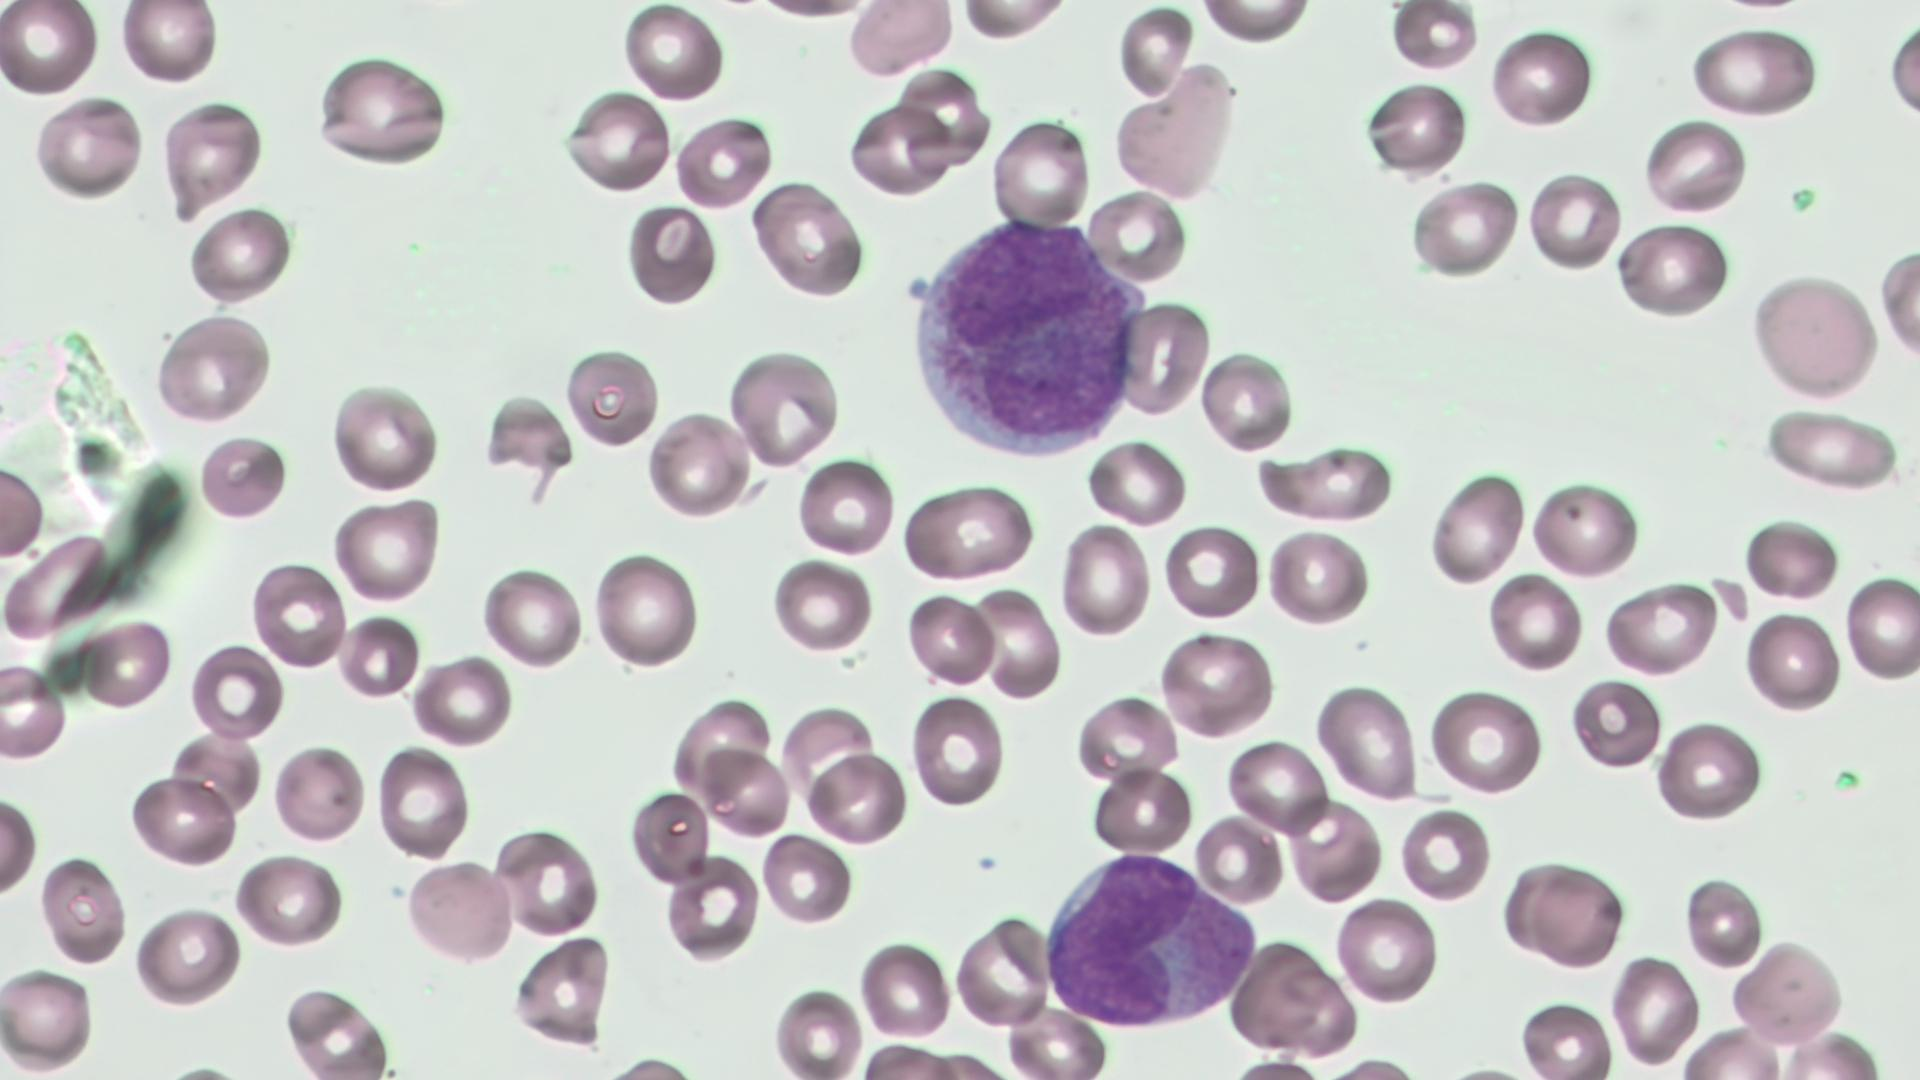Platelets: (902, 274, 931, 304)
RBC: (1749, 266, 1878, 406), (1111, 60, 1238, 201), (313, 51, 455, 169), (153, 308, 273, 427), (726, 344, 840, 469), (900, 479, 1035, 584), (751, 177, 866, 300), (1728, 934, 1848, 1048), (1156, 626, 1276, 740), (590, 547, 700, 671), (2, 525, 113, 646), (1756, 403, 1904, 493), (158, 96, 264, 221), (1426, 684, 1542, 798), (1226, 934, 1336, 1054), (1686, 22, 1821, 119), (1314, 679, 1419, 803), (330, 378, 440, 496), (332, 492, 443, 607), (560, 85, 674, 196), (493, 824, 602, 940), (1332, 891, 1440, 1008), (404, 856, 516, 967), (30, 96, 142, 206), (508, 932, 613, 1048), (1529, 476, 1642, 583), (1614, 219, 1731, 322), (987, 115, 1090, 232), (1653, 717, 1764, 825), (1486, 25, 1598, 132), (480, 560, 586, 671), (647, 407, 750, 521), (373, 742, 472, 860), (1407, 178, 1520, 281), (968, 582, 1064, 703), (480, 391, 575, 513), (621, 0, 729, 107), (1425, 470, 1522, 589), (670, 695, 776, 802), (1608, 950, 1704, 1068), (1743, 605, 1845, 716), (0, 961, 99, 1075), (953, 916, 1052, 1030), (1120, 297, 1212, 419), (249, 558, 348, 671), (126, 771, 239, 870), (1058, 520, 1152, 639), (1604, 580, 1718, 677), (133, 905, 242, 1006), (564, 340, 663, 451), (233, 850, 345, 948), (779, 694, 874, 809), (910, 692, 1004, 808), (1360, 77, 1469, 177), (188, 204, 294, 306), (1266, 525, 1371, 627), (664, 852, 761, 962), (1254, 444, 1394, 520), (793, 454, 895, 558), (1640, 116, 1748, 214), (1198, 346, 1295, 455), (283, 982, 393, 1078), (1522, 168, 1622, 273), (1073, 691, 1181, 788), (805, 746, 908, 847), (1225, 735, 1330, 834), (768, 557, 874, 655), (1161, 521, 1263, 622), (0, 0, 102, 101), (844, 101, 948, 199), (270, 740, 368, 844), (1486, 568, 1582, 674), (1083, 434, 1190, 529), (1531, 862, 1622, 972), (39, 854, 129, 964), (1085, 188, 1187, 285), (189, 640, 285, 743), (1090, 763, 1196, 856), (858, 936, 951, 1041), (626, 202, 718, 308), (115, 0, 222, 91), (1495, 859, 1587, 964), (409, 653, 511, 747), (906, 588, 999, 690), (759, 830, 855, 928), (674, 114, 772, 209), (699, 742, 794, 839), (1398, 806, 1490, 904), (1569, 676, 1662, 772), (80, 616, 172, 711), (1740, 514, 1839, 602), (1682, 872, 1766, 975), (771, 983, 864, 1075), (196, 432, 290, 522), (167, 729, 266, 814), (1842, 575, 1917, 686), (842, 2, 956, 75), (1193, 812, 1283, 904), (629, 788, 712, 886), (1114, 5, 1196, 103), (1514, 996, 1612, 1077), (1001, 1005, 1109, 1077), (338, 610, 423, 701), (0, 662, 69, 759), (1875, 238, 1920, 380), (1387, 2, 1477, 73), (1192, 0, 1317, 44), (0, 782, 41, 906), (954, 0, 1071, 42), (0, 458, 47, 561), (1882, 11, 1918, 128), (858, 1038, 958, 1078)
WBC: (898, 213, 1154, 464), (1036, 848, 1261, 1031)
